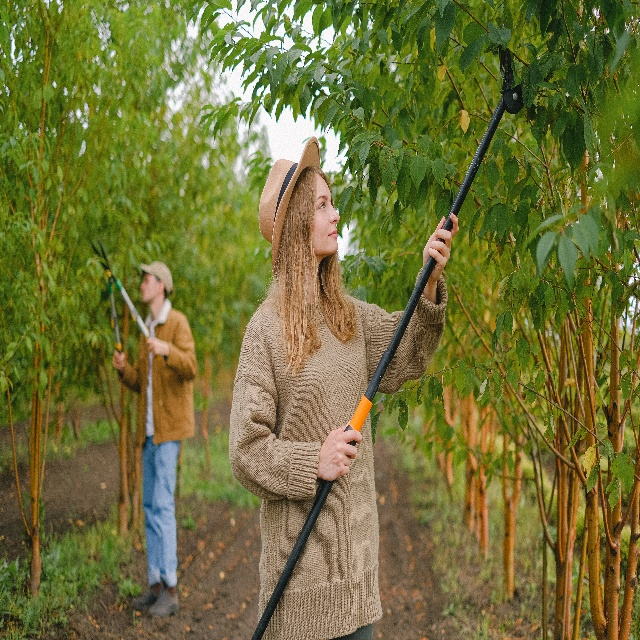Sin_guantes: (317, 419, 362, 481), (422, 213, 459, 281), (146, 335, 166, 358), (112, 349, 126, 372)
